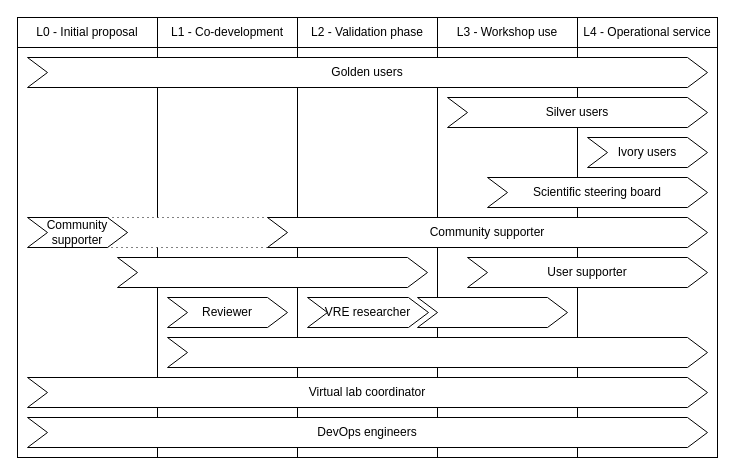
The diagram is 735 pixels wide and 475 high, and some of its shapes have lost their labels. The shapes that lost their labels are listed below. From the top down, each one's box as (x1, y1, x2, y2) in pixels, then its label:
(116, 256, 428, 288): Core developers
(416, 296, 568, 328): Trainer
(166, 336, 708, 368): Infrastructure supporter
